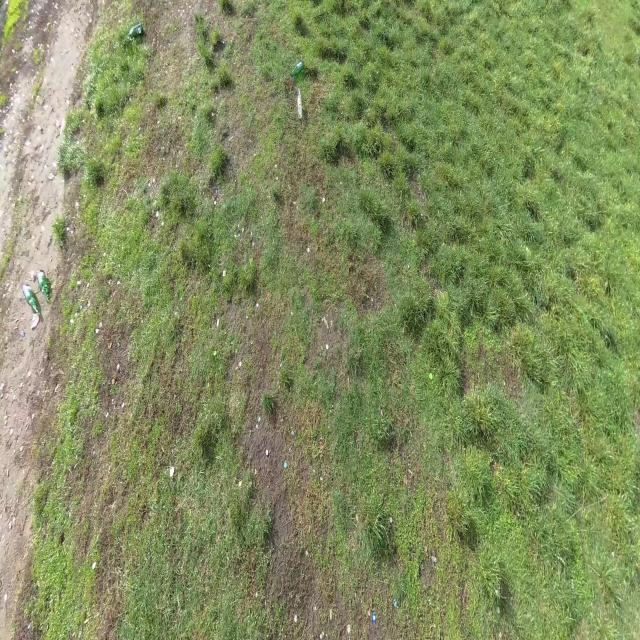rubbish: (23, 285, 40, 320), (35, 269, 50, 303), (122, 24, 144, 43), (289, 60, 305, 77), (297, 86, 302, 118)
